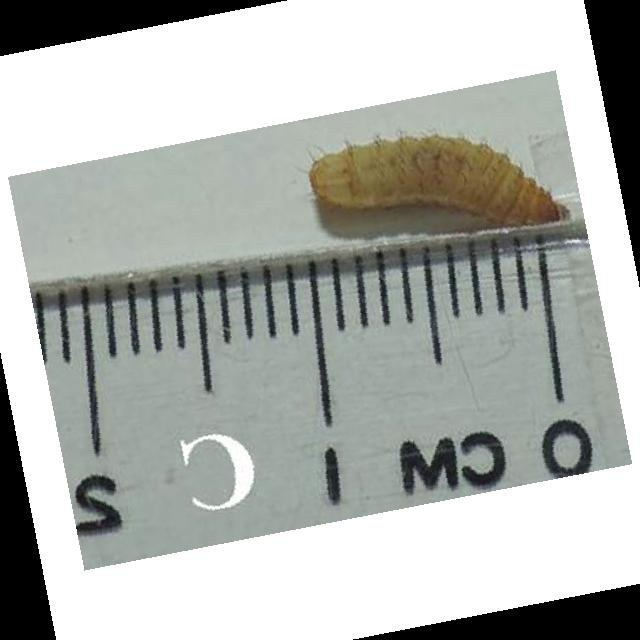Maggot: (308, 133, 561, 231)
